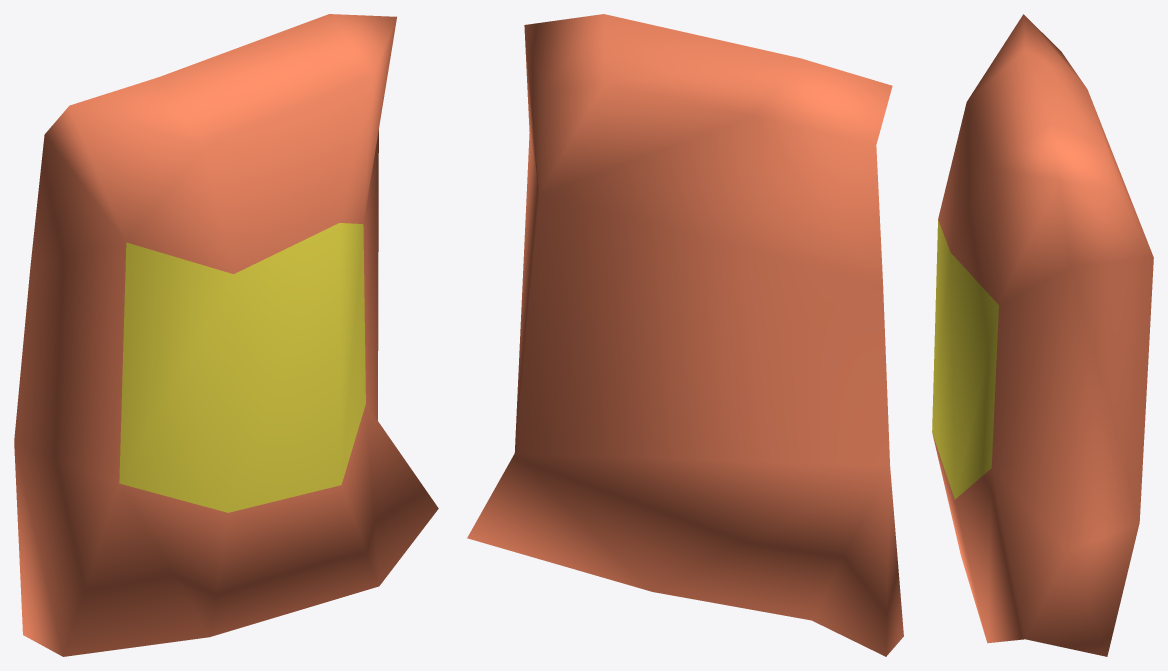
The model's file is shop_078.glb.
3 views of the same model, side by side, from view 1: azimuth 30°, elevation 25°; view 2: azimuth 150°, elevation 25°; view 3: azimuth 270°, elevation 25° (orthographic). The views are drawn at different scales.
Visible parts, largest first — view 1: shop_078; view 2: shop_078; view 3: shop_078.
Boxes of the visible parts, x1,y1,x2,y2 form: shop_078: [14, 14, 438, 656]; shop_078: [467, 14, 903, 656]; shop_078: [932, 14, 1153, 656].
Size of the model in its own units: 0.2185 by 0.2901 by 0.1119.
1 material, 1 textured.
